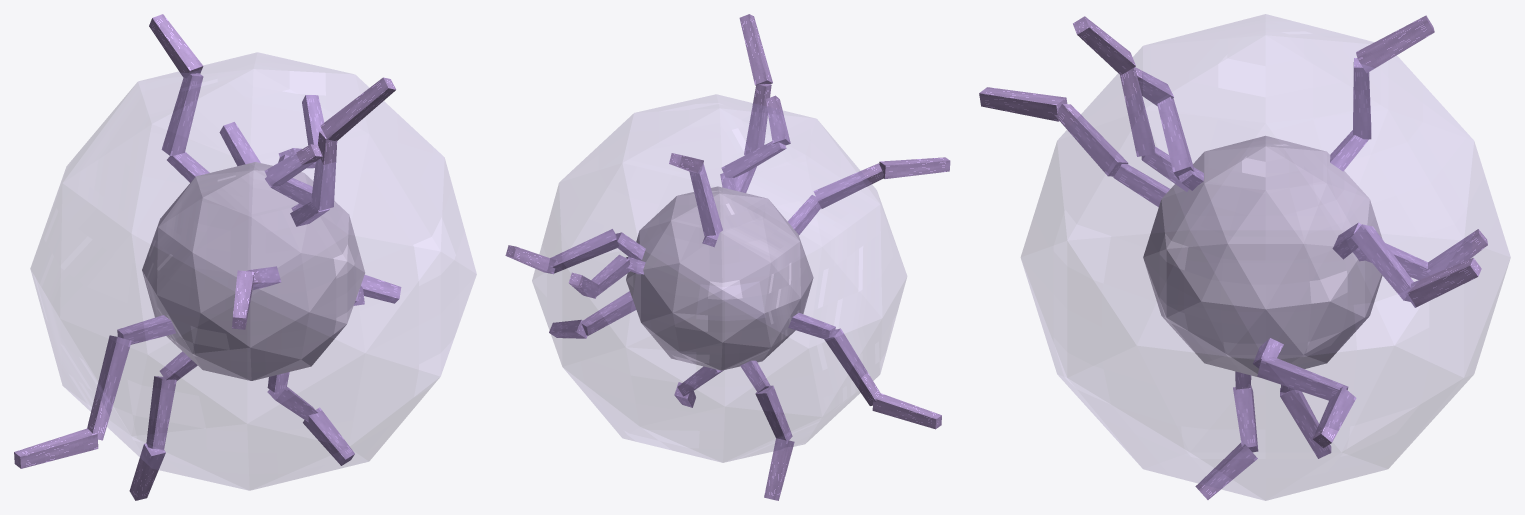
The model's file is proj_wisp.gltf.
The picture shows the model from 3 angles, left to right: view 1: azimuth 30°, elevation 25°; view 2: azimuth 150°, elevation 25°; view 3: azimuth 270°, elevation 25°; orthographic projection. The views are drawn at different scales.
Visible parts, largest first — view 1: halo, core, tendrils; view 2: halo, core, tendrils; view 3: halo, core, tendrils.
Boxes of the visible parts, <box> form: halo: <box>30,52,476,490</box>; core: <box>142,162,365,380</box>; tendrils: <box>14,14,401,500</box>; halo: <box>532,94,906,462</box>; core: <box>626,186,813,370</box>; tendrils: <box>505,14,950,500</box>; halo: <box>1021,14,1510,500</box>; core: <box>1143,135,1382,377</box>; tendrils: <box>979,15,1487,499</box>.
Size of the model in its own units: 0.5487 by 0.5534 by 0.5205.
Materials: 3 (3 with a texture image).
